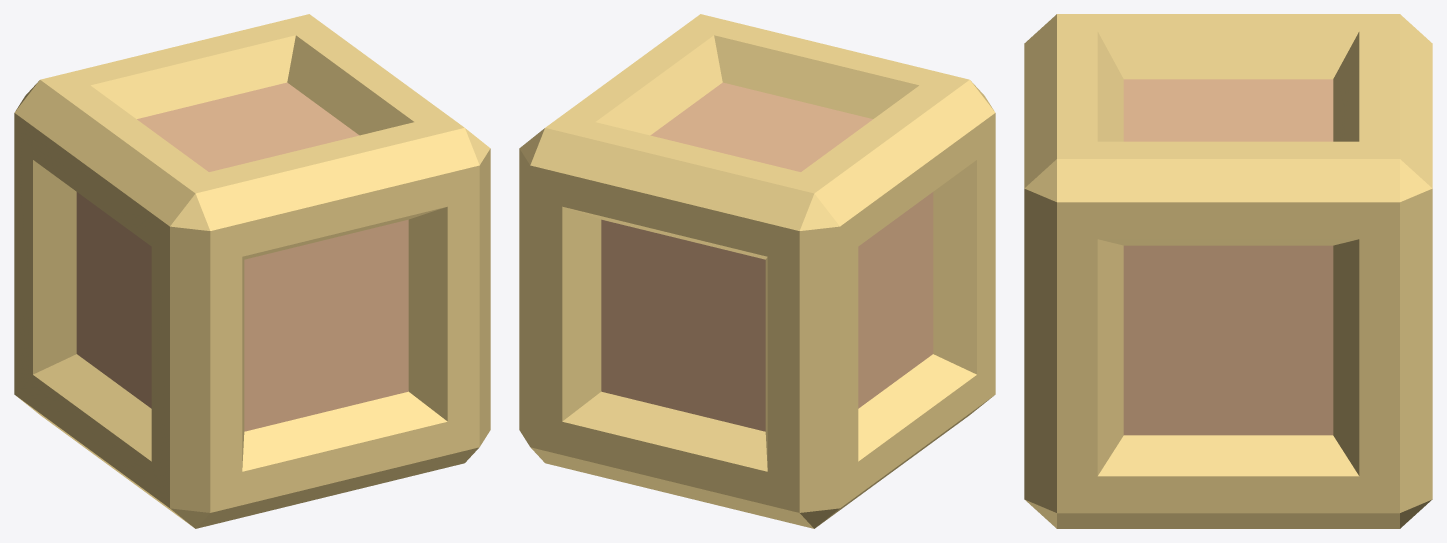
Rendered from crateItem.fbx.
3 views of the same model, side by side, from view 1: azimuth 30°, elevation 25°; view 2: azimuth 150°, elevation 25°; view 3: azimuth 270°, elevation 25° (orthographic). The views are drawn at different scales.
Visible parts, largest first — view 1: crateItem; view 2: crateItem; view 3: crateItem.
Part boxes in pixels (<box>): crateItem: <box>14,14,490,528</box>; crateItem: <box>519,14,995,528</box>; crateItem: <box>1024,14,1432,528</box>.
Size of the model in its own units: 50 by 50 by 50.
